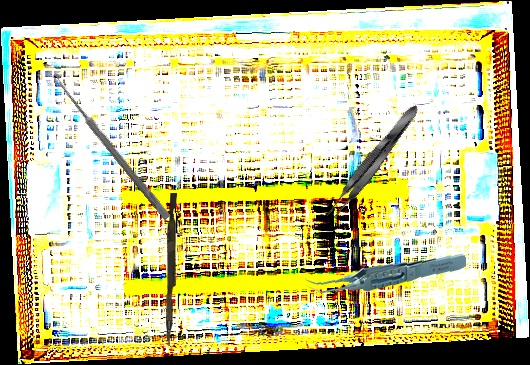Pusher: (166, 193, 177, 346)
Surgical Spoon: (49, 72, 172, 221)
Tissue Forceps: (323, 100, 425, 223), (304, 242, 467, 303)
